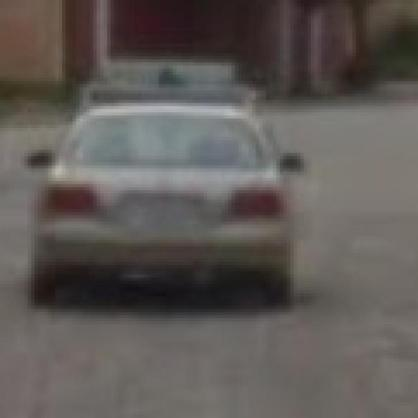car: (27, 85, 306, 309)
